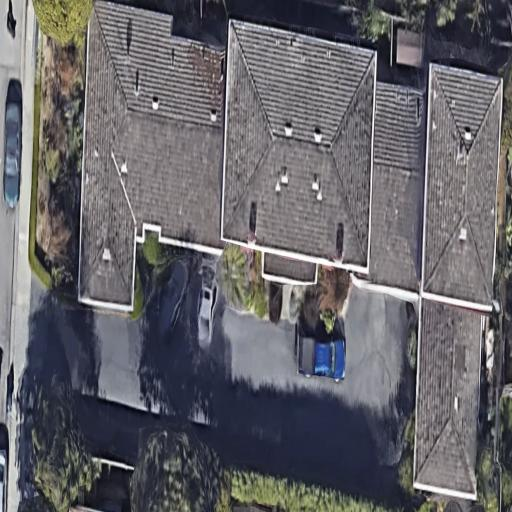Unknownshape-Roof: (78, 2, 503, 499)
